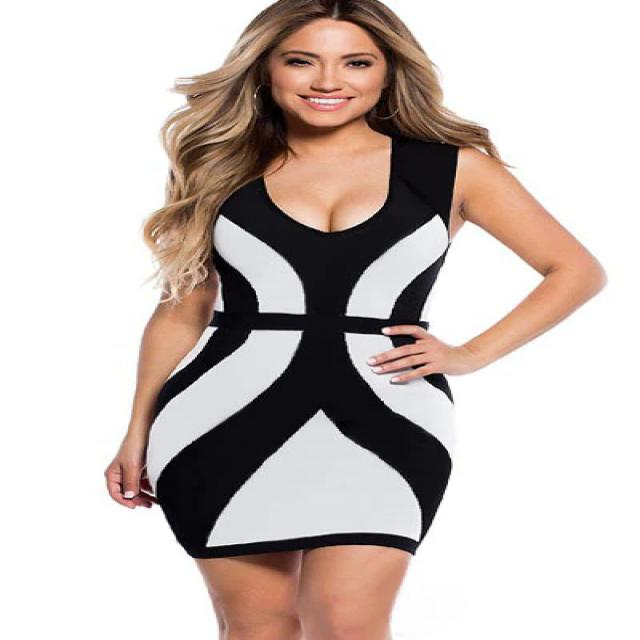clothes: (137, 137, 484, 564)
